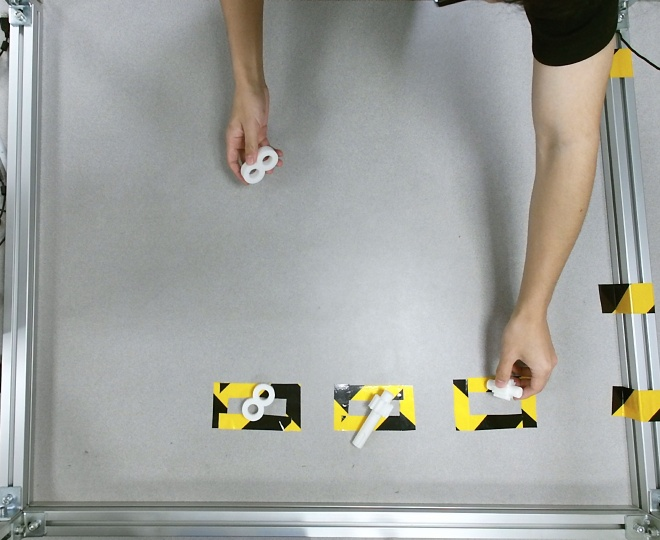stage_1: (241, 146, 278, 183)
